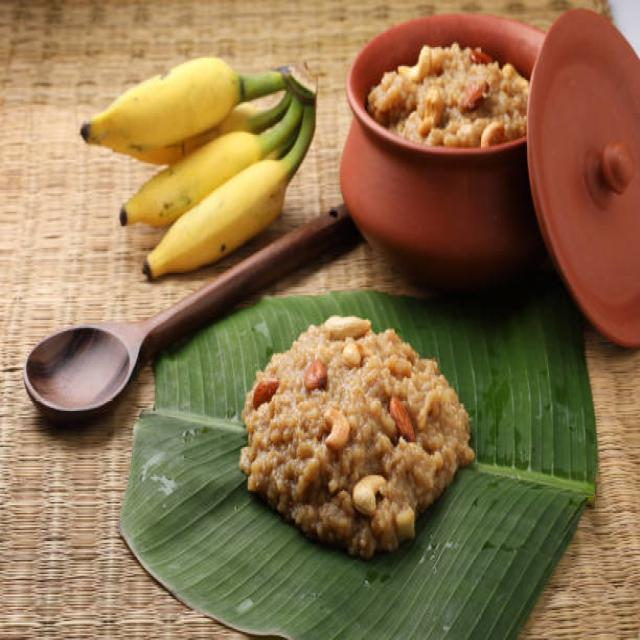BANANA: (85, 56, 309, 276)
PONGAL: (243, 318, 472, 557), (368, 42, 528, 148)
